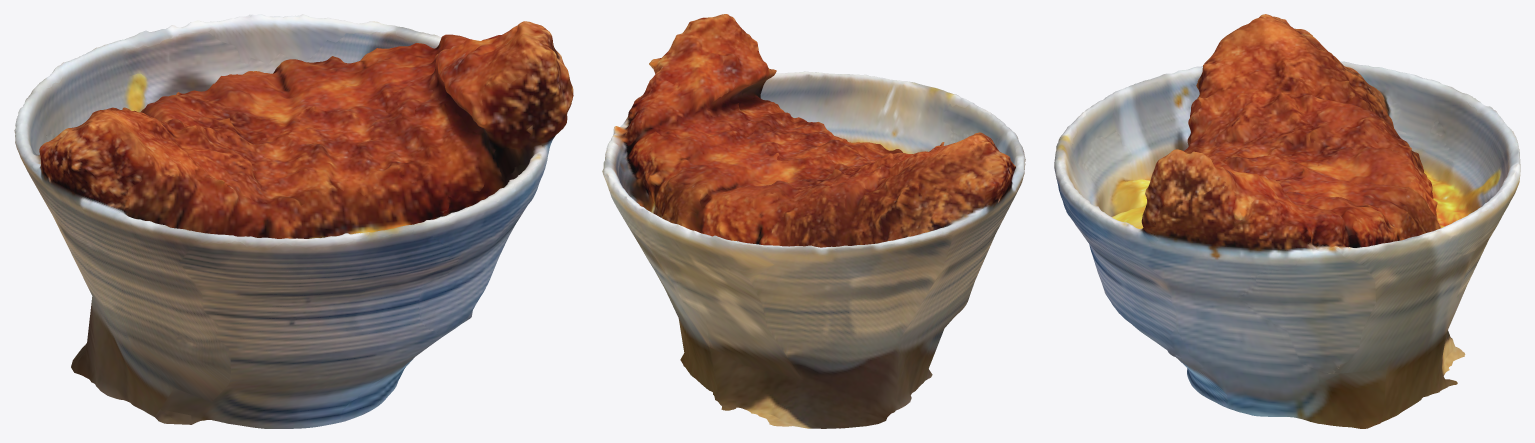
File: rice.glb
The picture shows the model from 3 angles, left to right: view 1: azimuth 30°, elevation 25°; view 2: azimuth 150°, elevation 25°; view 3: azimuth 270°, elevation 25°; orthographic projection. The views are drawn at different scales.
Visible parts, largest first — view 1: Object_2; view 2: Object_2; view 3: Object_2.
Part boxes in pixels (x1,y1,x2,y2): Object_2: [14, 14, 573, 428]; Object_2: [602, 14, 1025, 428]; Object_2: [1054, 14, 1520, 428].
Bounding box in the file's own units: 0.1605 × 0.1118 × 0.1564.
1 material, 1 textured.
